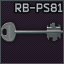RB-PSV1 key: (0, 0, 64, 64)
